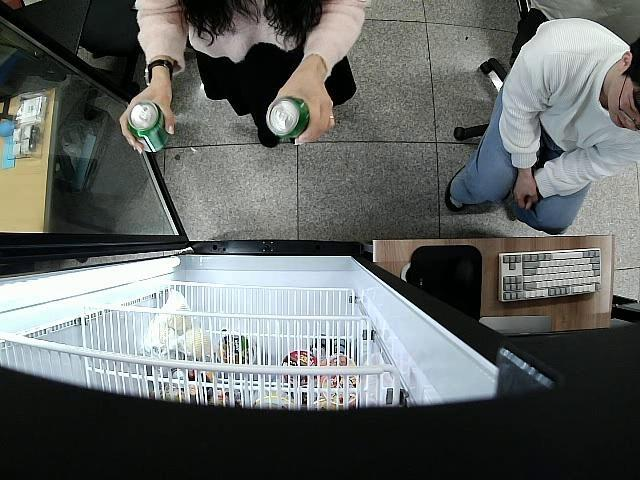12_chilsungCider: (128, 101, 172, 152), (266, 96, 310, 140)
